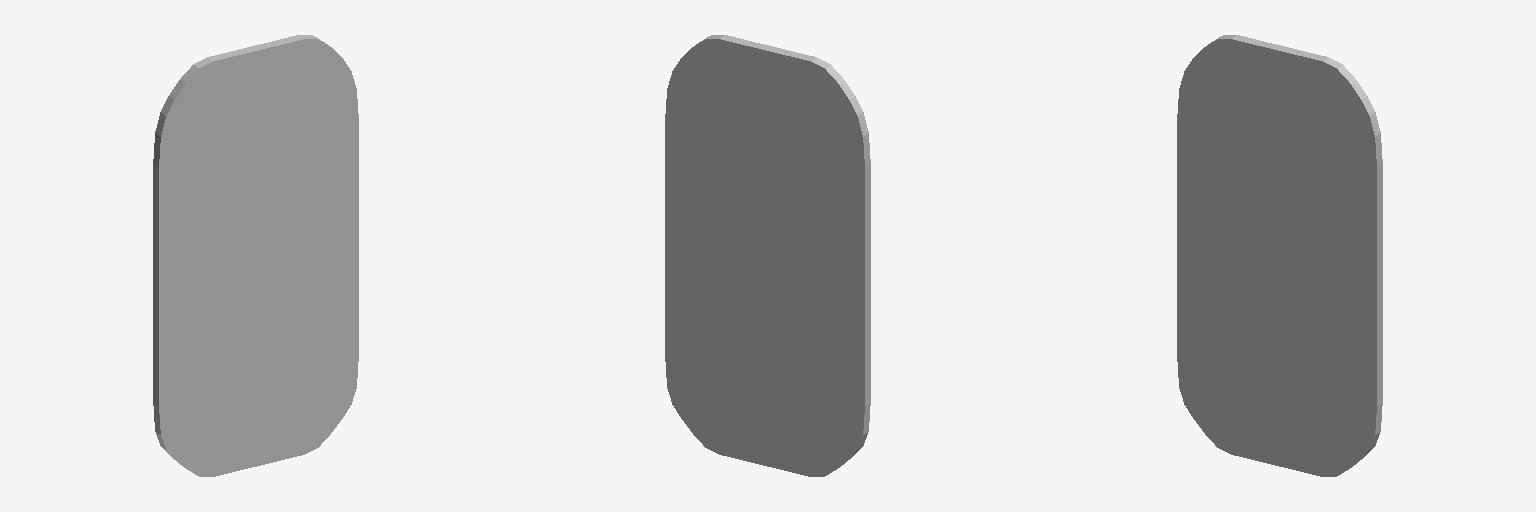
The model's file is PortalBuqueFondo.obj.
3 views of the same model, side by side, from view 1: azimuth 30°, elevation 25°; view 2: azimuth 150°, elevation 25°; view 3: azimuth 330°, elevation 25° (orthographic).
Parts seen in each view (by area): view 1: Cube.002; view 2: Cube.002; view 3: Cube.002.
Boxes of the visible parts, x1,y1,x2,y2 form: Cube.002: [153, 35, 358, 476]; Cube.002: [665, 35, 870, 476]; Cube.002: [1177, 35, 1382, 476].
Bounding box in the file's own units: 2.75 × 5.48 × 0.1379.